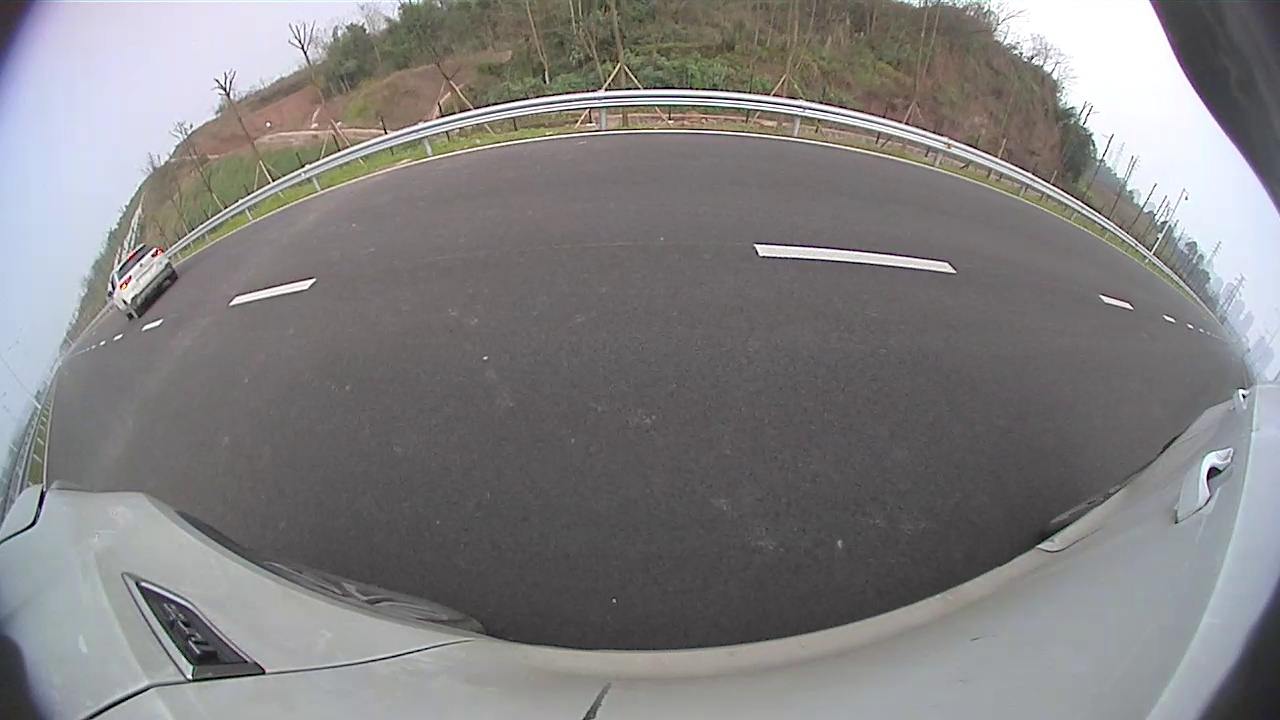car: (495, 153, 568, 203)
front: (560, 177, 567, 194)
rear: (544, 178, 552, 197)
